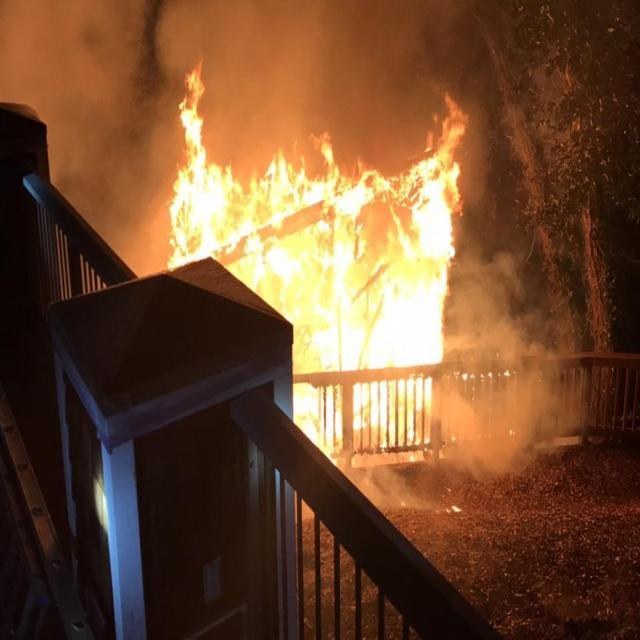Fire: (164, 64, 480, 442)
